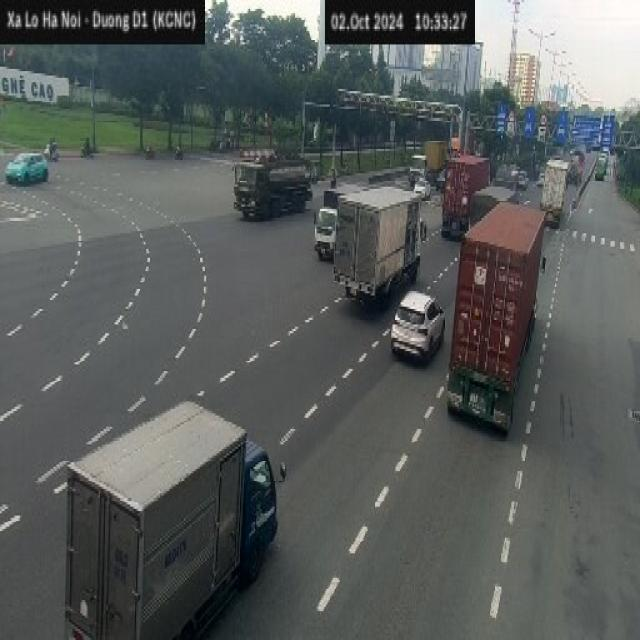car: (390, 289, 445, 362), (3, 151, 48, 185)
container-truck: (445, 200, 546, 433)
truck: (62, 398, 284, 638), (332, 184, 427, 304), (232, 147, 312, 220), (440, 151, 490, 238), (540, 156, 569, 227)
